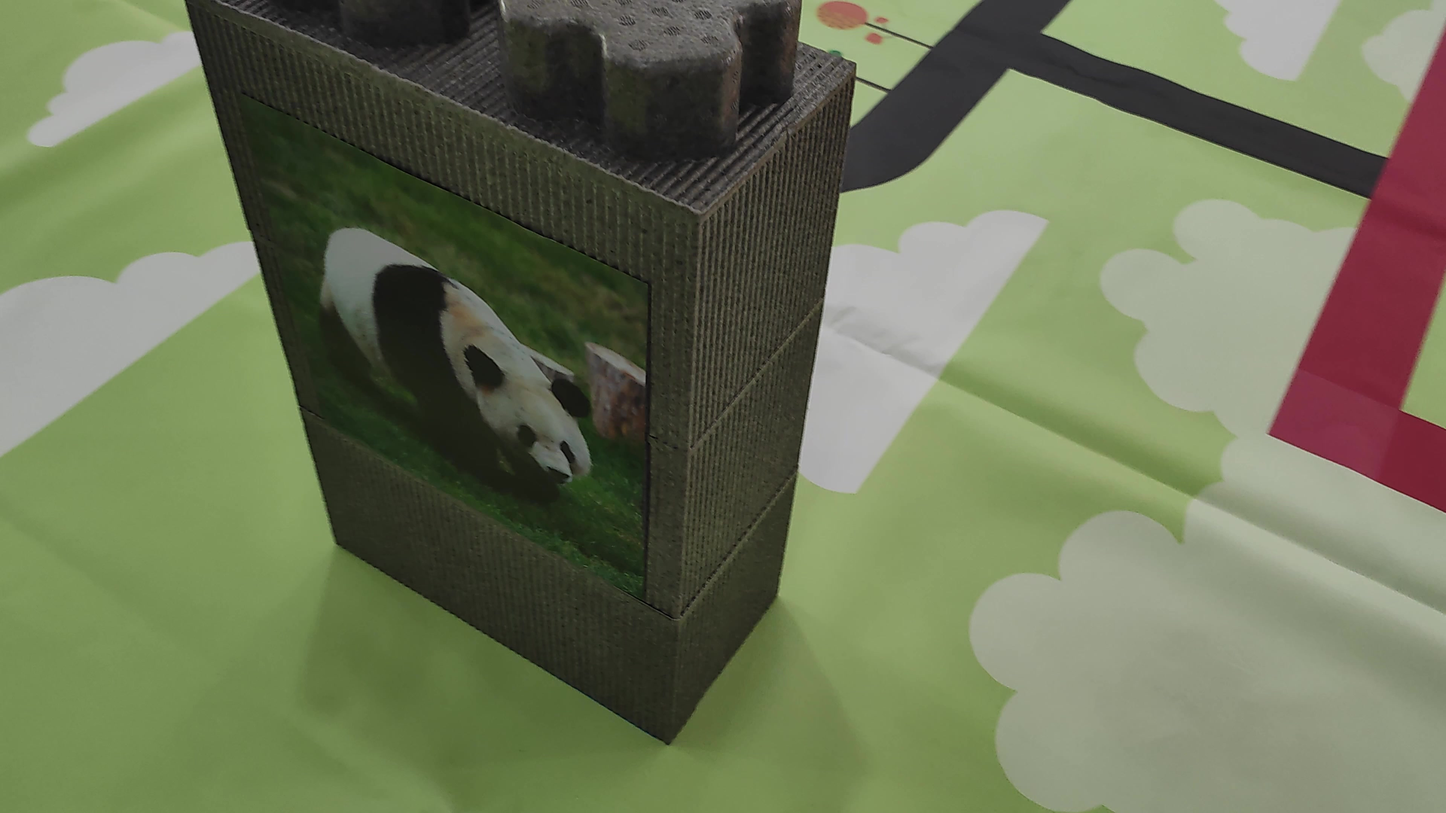panda: (296, 206, 625, 513)
